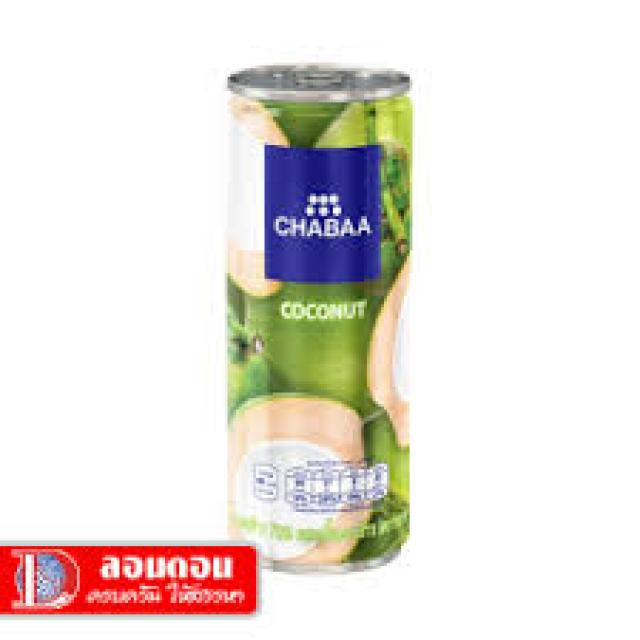can: (225, 63, 415, 570)
